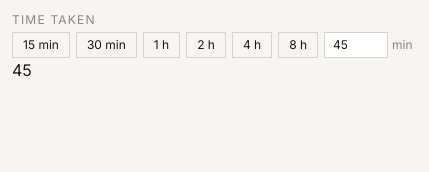
Test: EstimatePicker typing › can clear a custom value and type a new one
Step 1. Replace the text in the number field named "Time taken in minutes" with "90" → x=356, y=45, box [324,32,388,58]
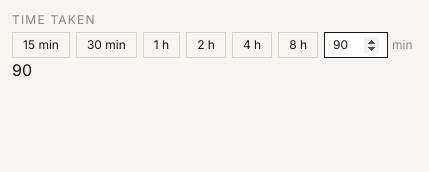
Result: the text with test id "value" reads "90" at [12,60,32,80]
